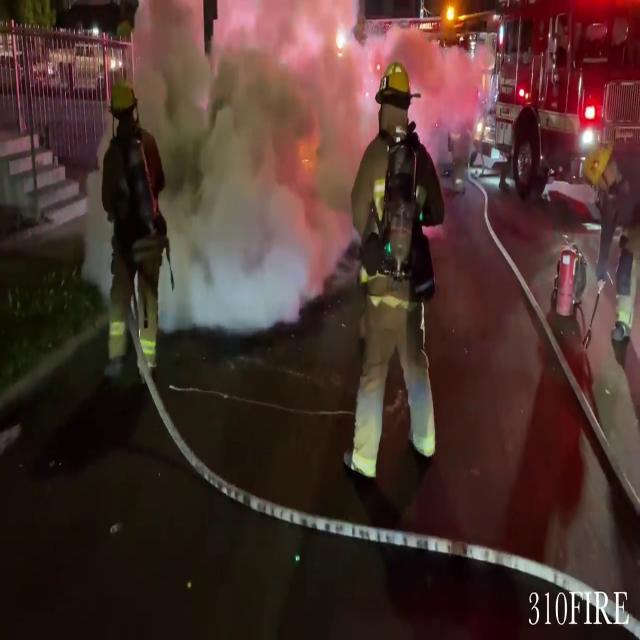Smoke: (134, 0, 369, 322), (348, 12, 493, 146)
